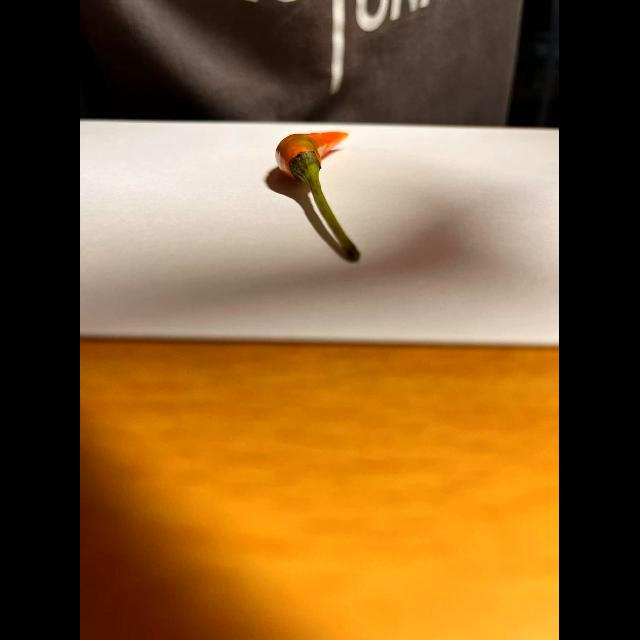chili_pepper: (265, 128, 372, 264)
